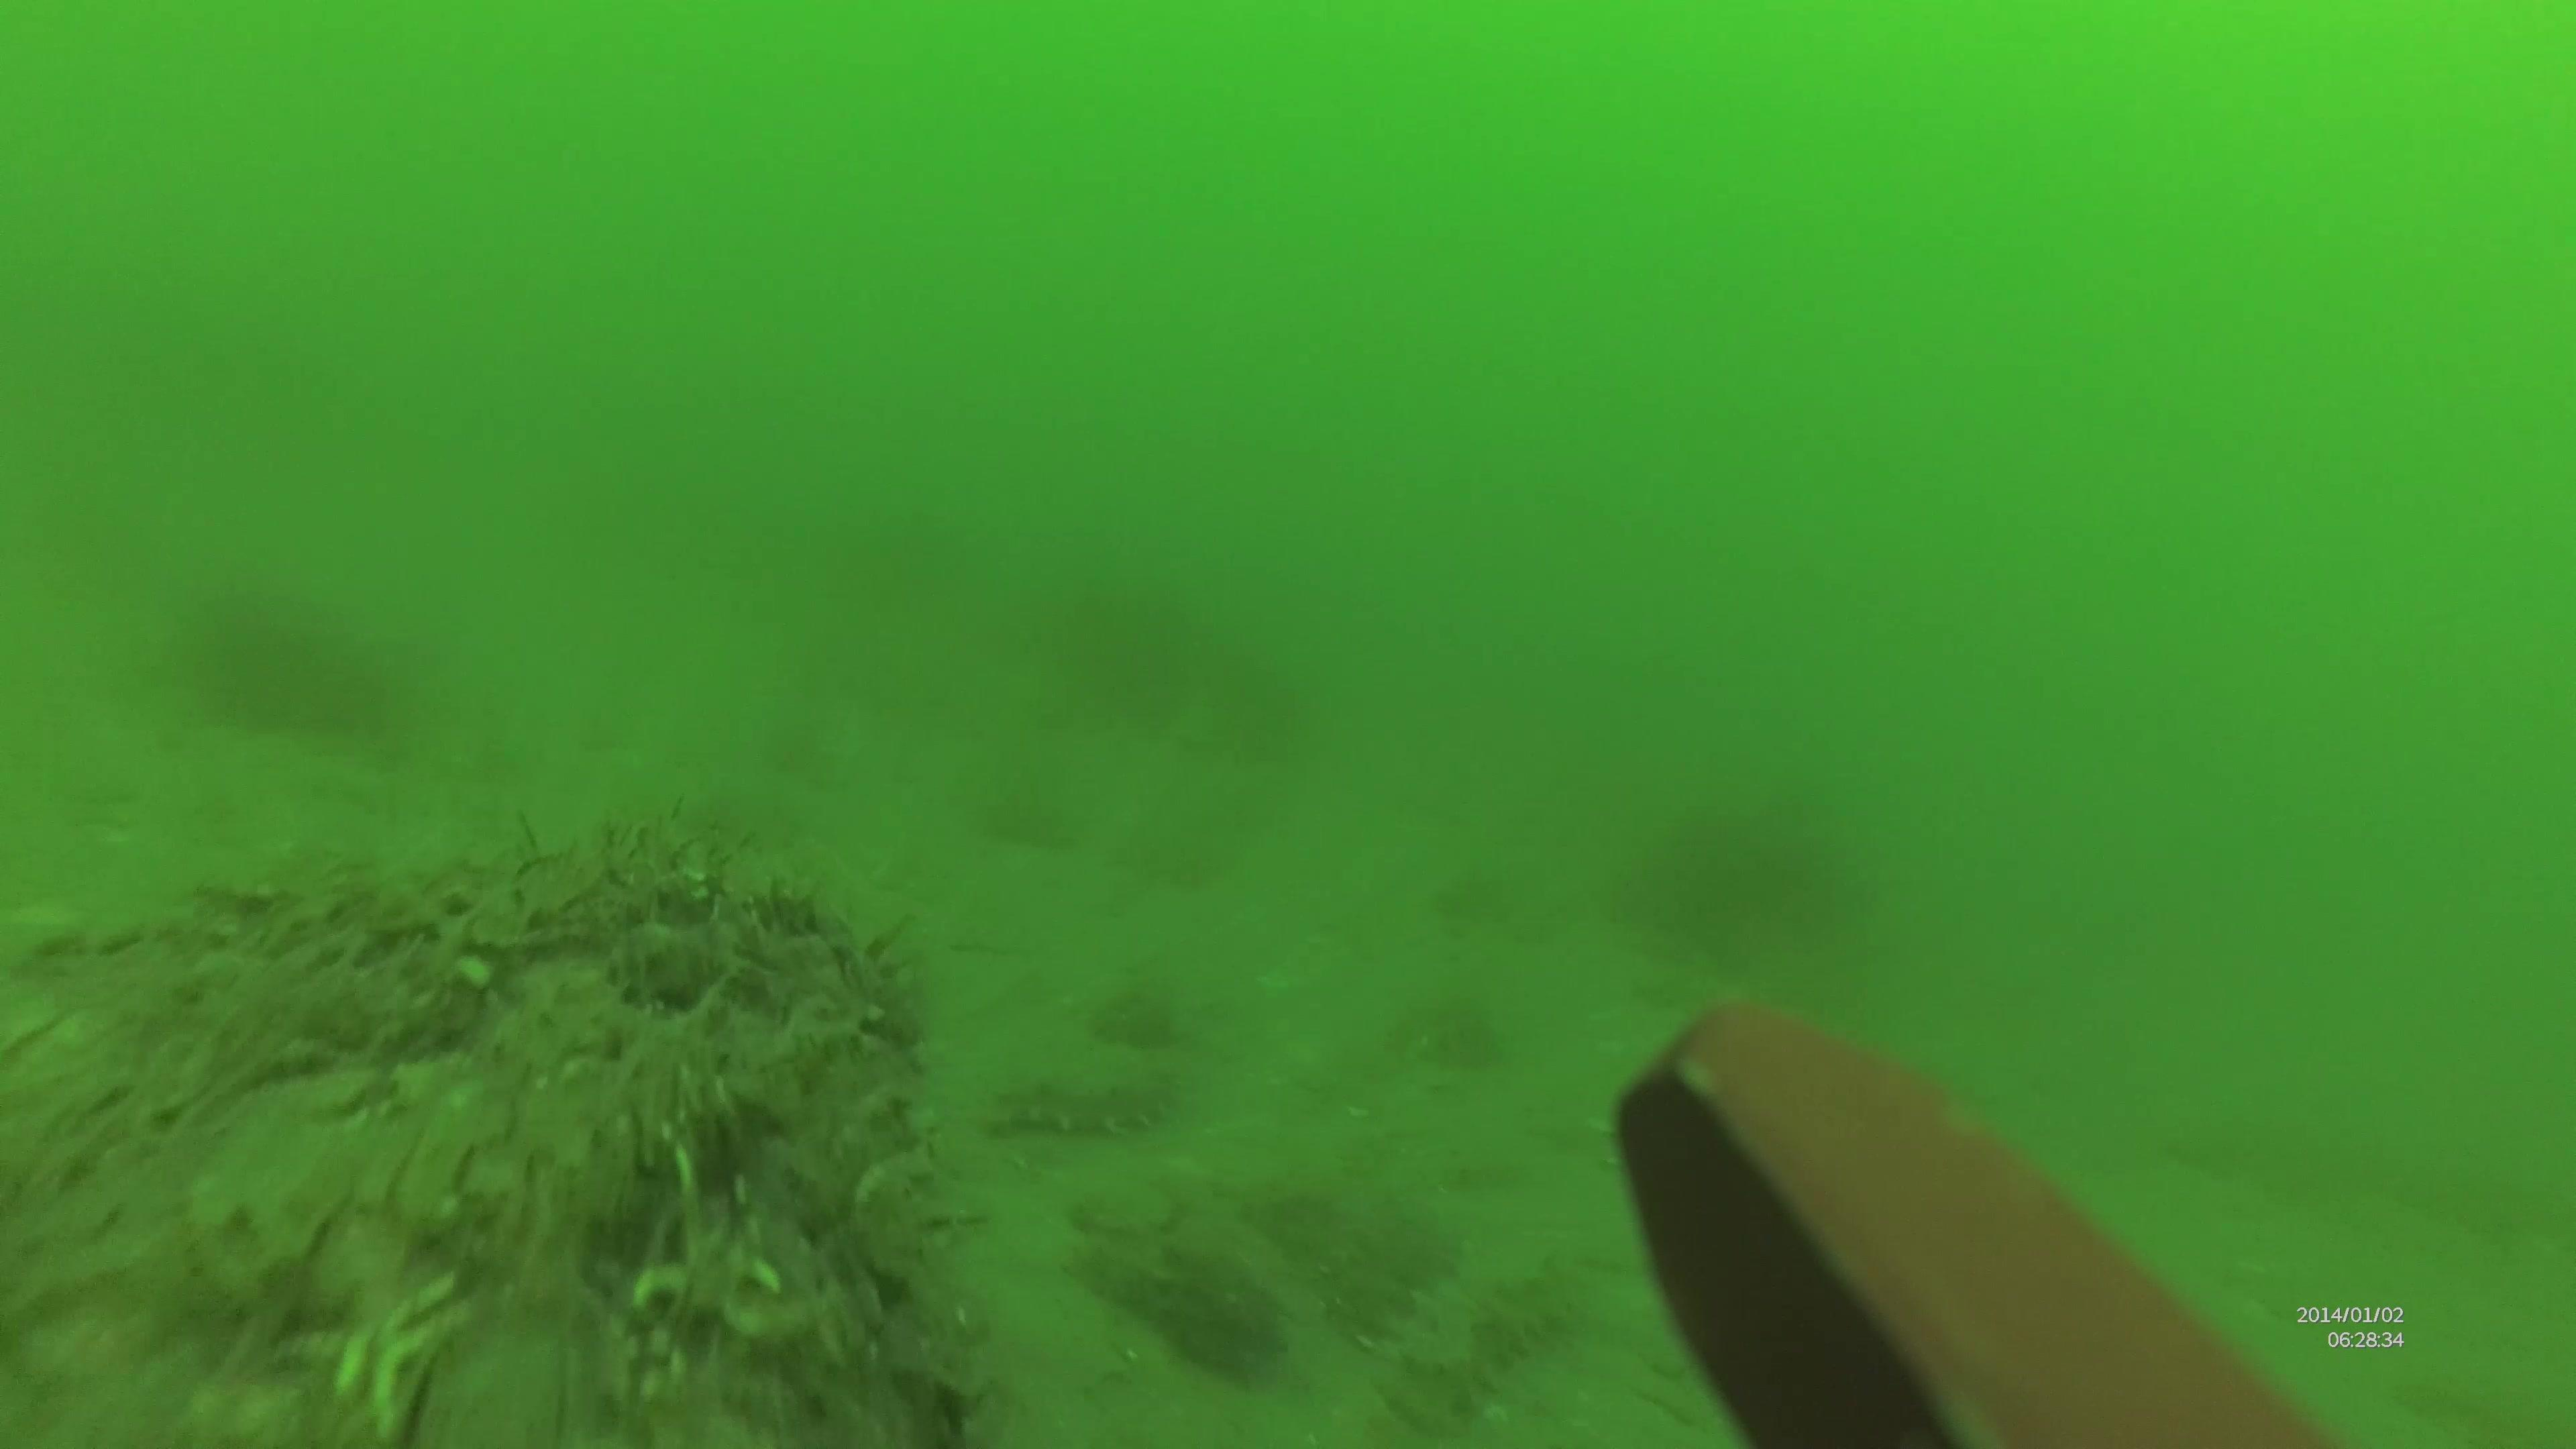holothurian: (1364, 1242, 1592, 1445), (991, 1053, 1191, 1143)
